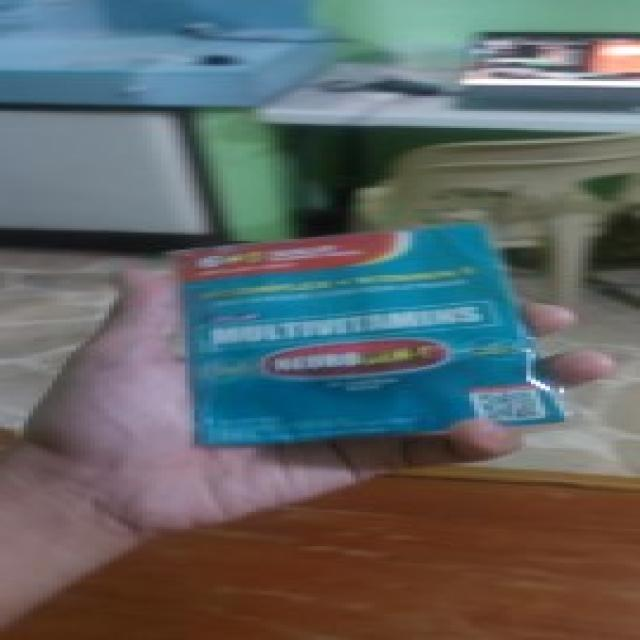Cacat: (172, 218, 574, 446)
